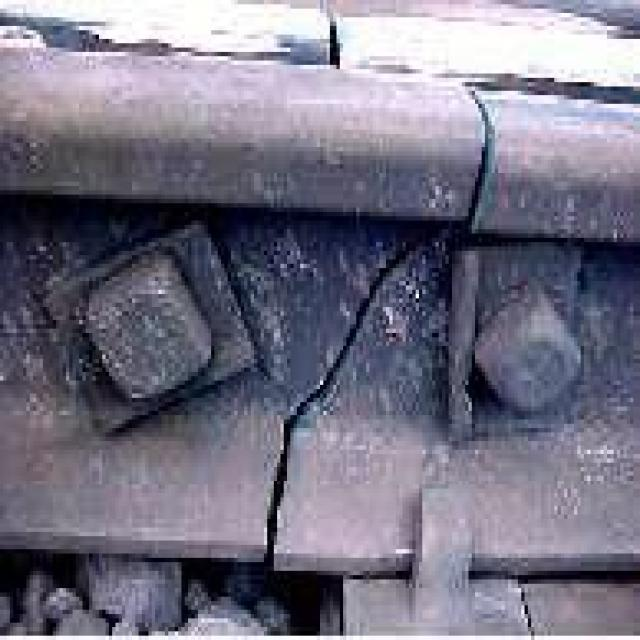broken_rail_high: (248, 62, 516, 574)
